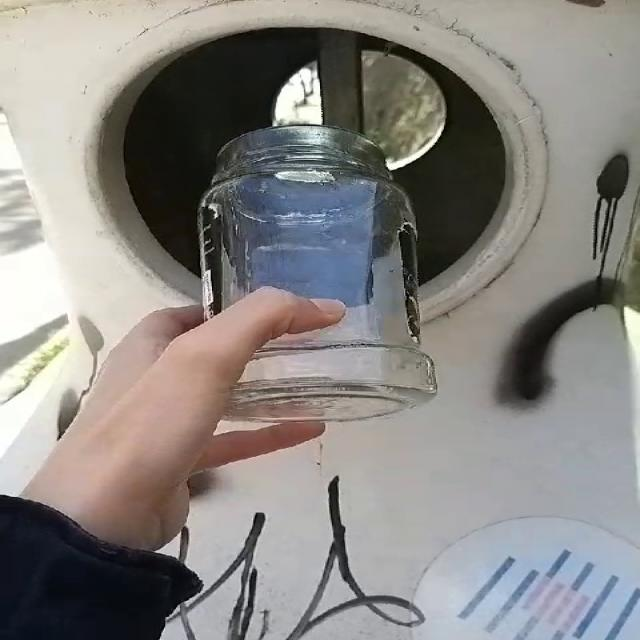glass: (199, 124, 436, 422)
